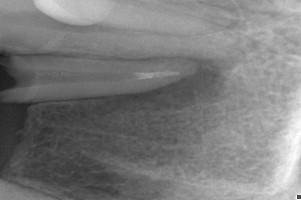Furcation Involvement: (125, 58, 226, 109)
